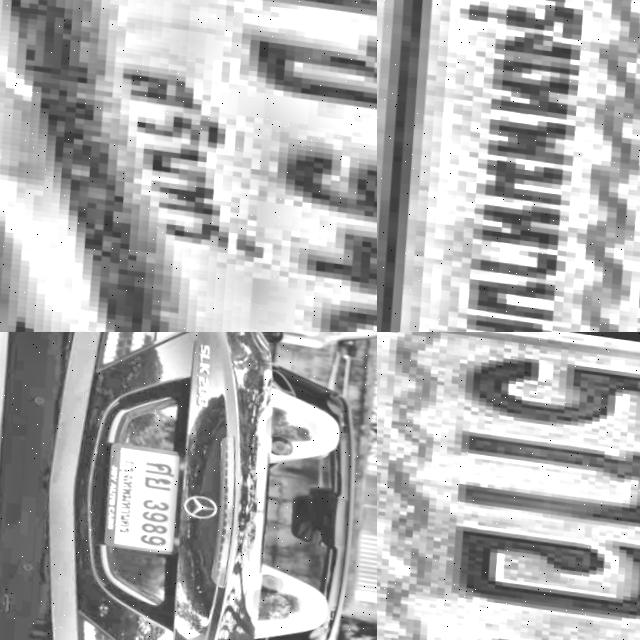license-plate: (0, 0, 377, 332), (377, 0, 640, 332), (377, 332, 640, 640), (84, 434, 200, 556)
